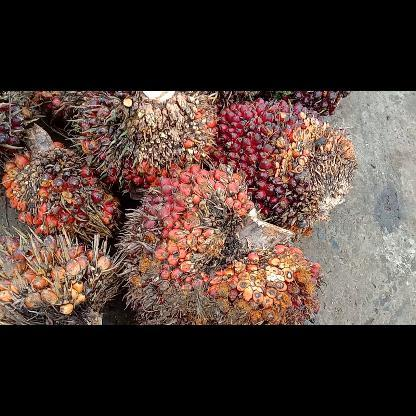TBS masak: (122, 170, 322, 324), (216, 99, 360, 233), (64, 92, 216, 196), (1, 137, 118, 241), (2, 230, 120, 324)
